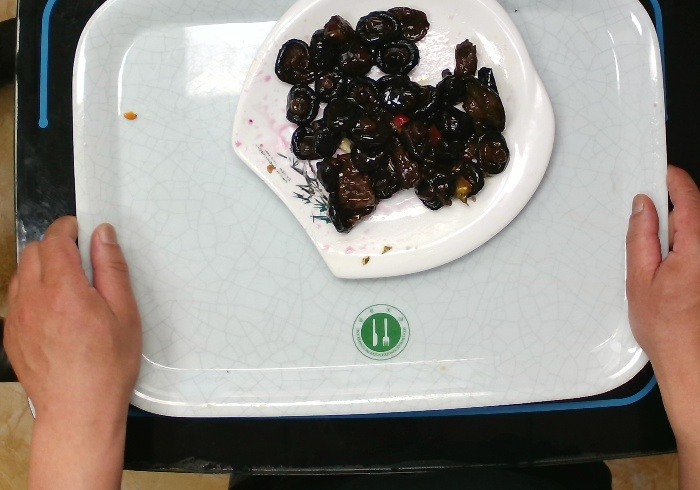JYsf-Mian_Pan: (229, 1, 557, 281)
